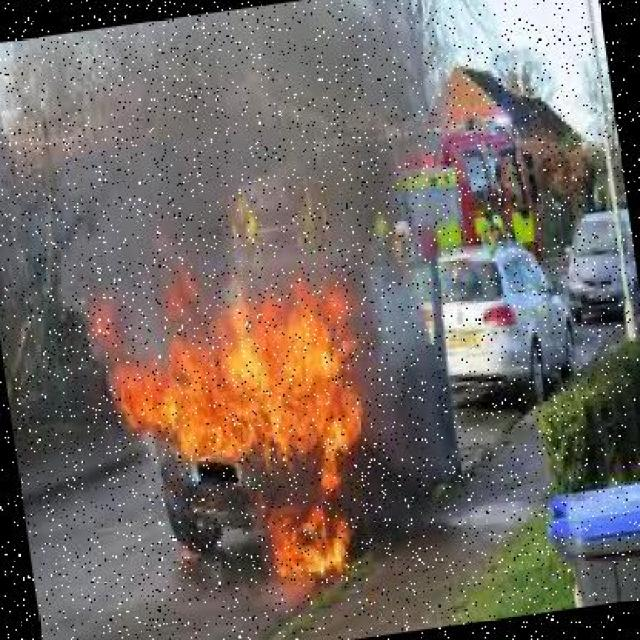fire: (77, 254, 386, 531)
